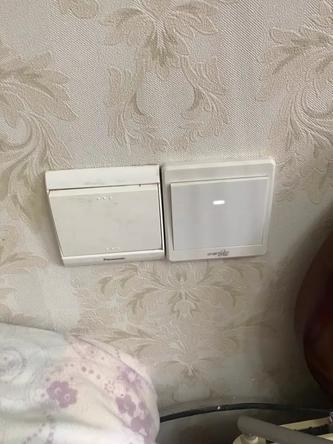switch: (48, 189, 159, 253), (169, 182, 263, 246)
